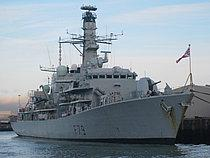MIL_Ship: (9, 4, 195, 145)
